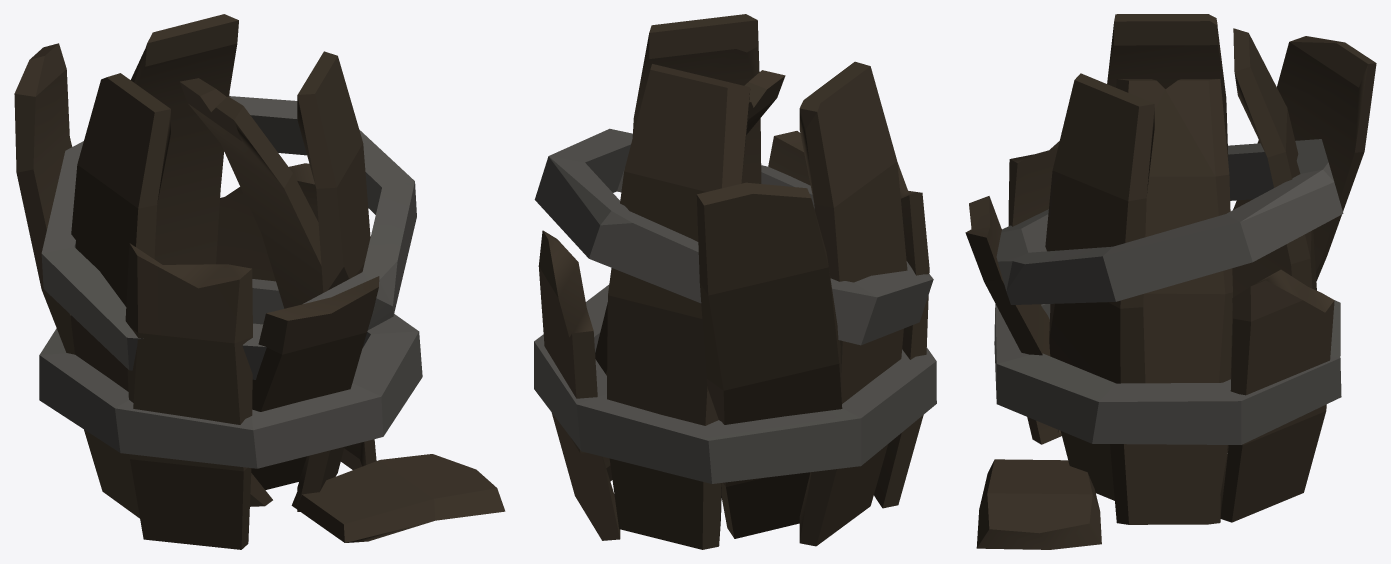
The model's file is barrel_broken.glb.
The picture shows the model from 3 angles, left to right: view 1: azimuth 30°, elevation 25°; view 2: azimuth 150°, elevation 25°; view 3: azimuth 270°, elevation 25°; orthographic projection. The views are drawn at different scales.
Parts seen in each view (by area): view 1: SM_Prop_Barrel_Broken_01; view 2: SM_Prop_Barrel_Broken_01; view 3: SM_Prop_Barrel_Broken_01.
Boxes of the visible parts, <box> form: SM_Prop_Barrel_Broken_01: <box>14,14,505,549</box>; SM_Prop_Barrel_Broken_01: <box>534,14,936,549</box>; SM_Prop_Barrel_Broken_01: <box>965,14,1376,549</box>.
Size of the model in its own units: 0.7816 by 0.9598 by 0.8383.
Materials: 1 (1 with a texture image).
